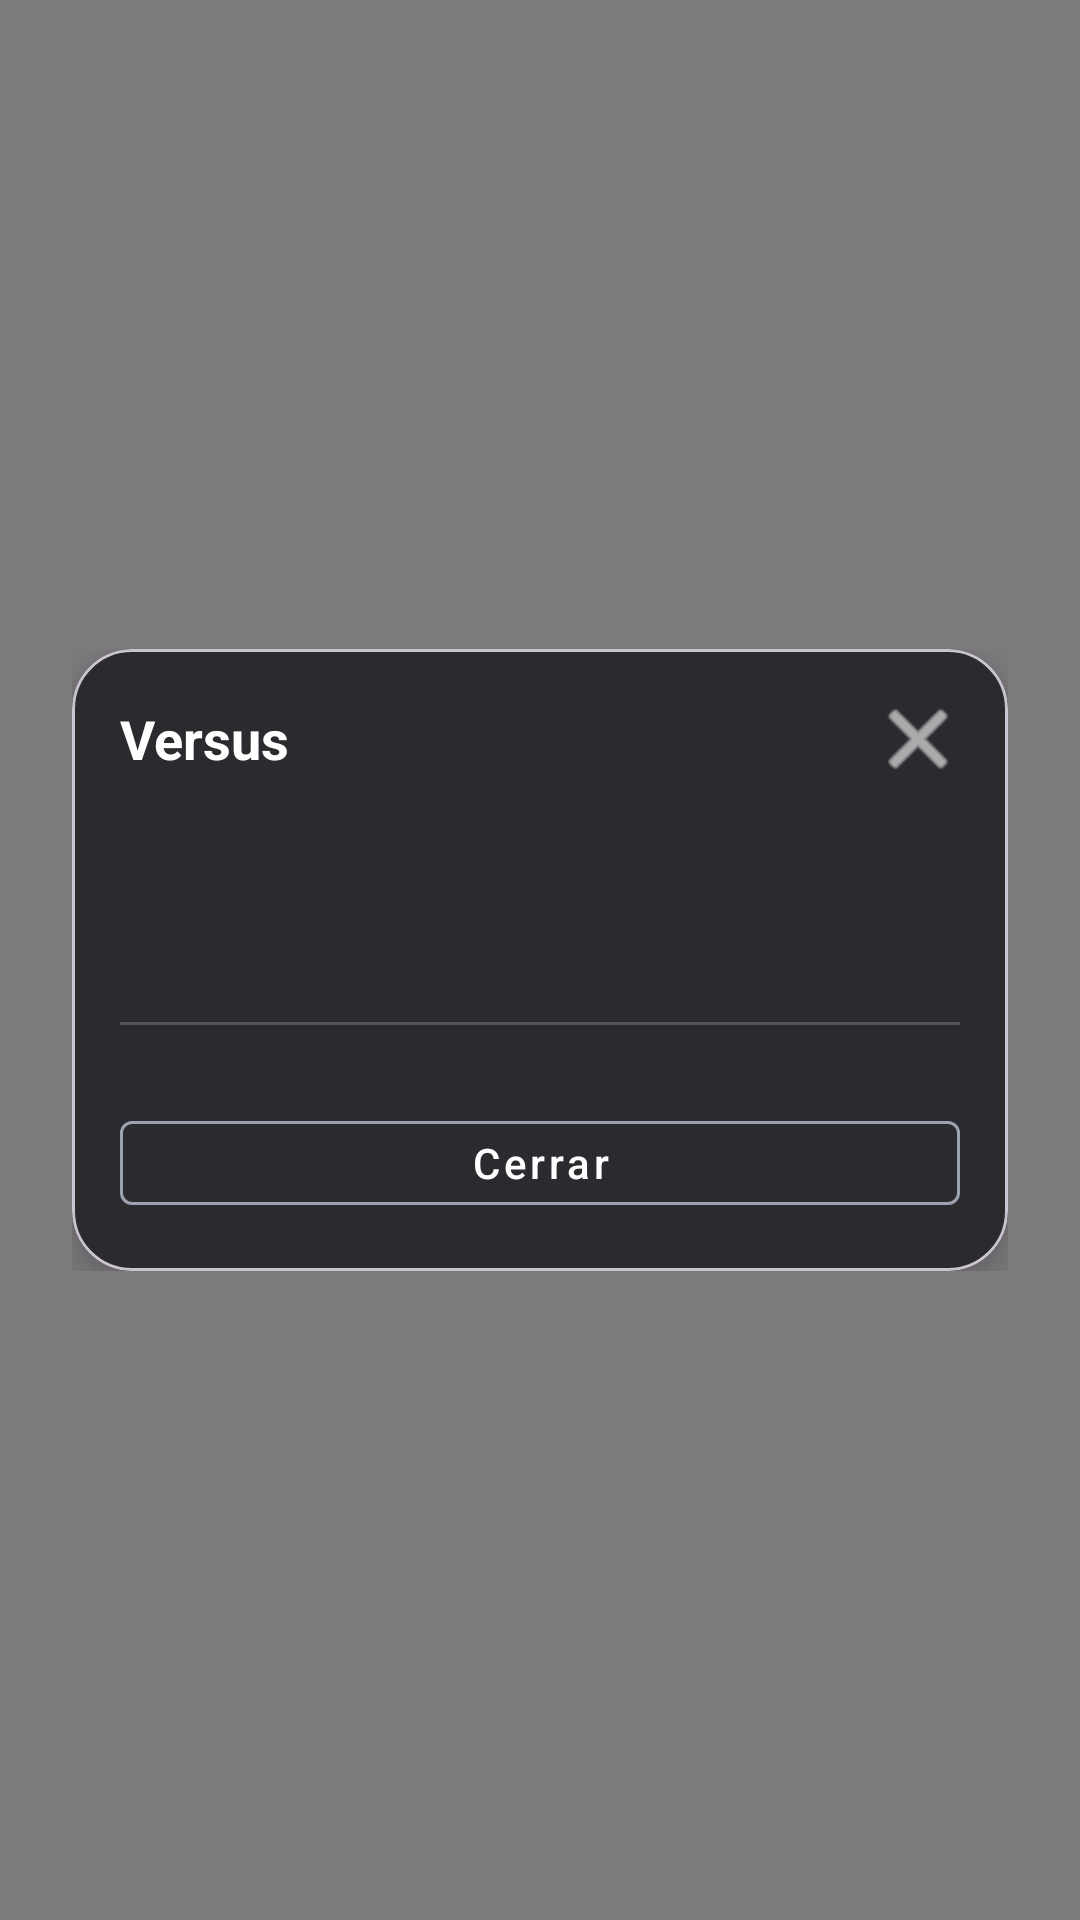

Icon bounding boxes for this 1080px x 1920px phone screenshot, format (x1, y1, x2, y2):
close clear cancel: (888, 709, 948, 769)
